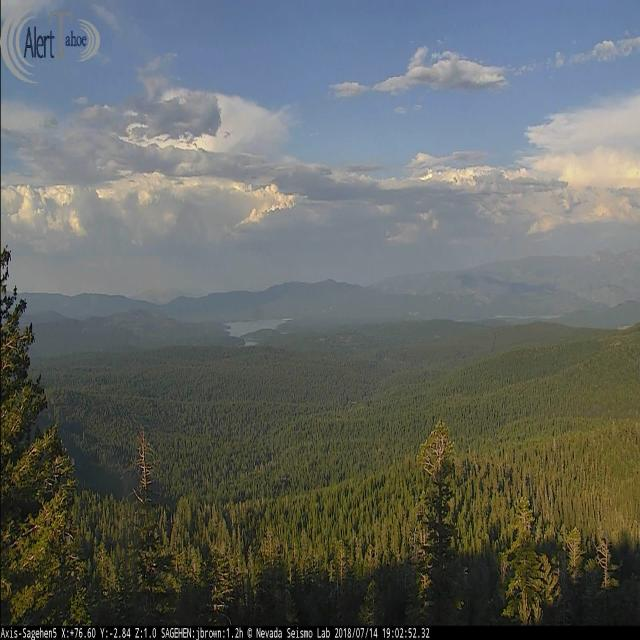smoke: (80, 328, 87, 336)
